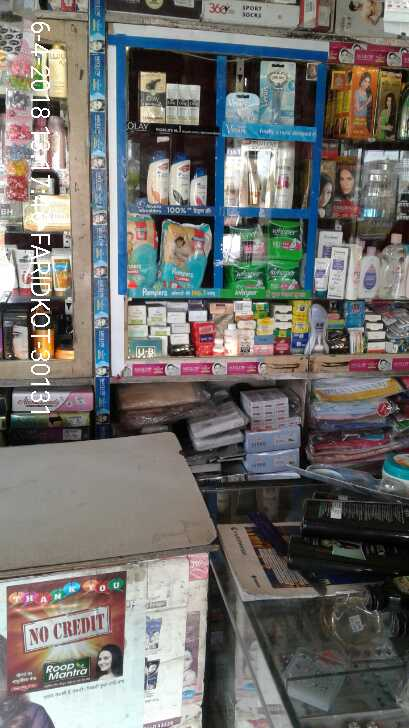venus: (262, 61, 295, 124), (227, 92, 261, 121)
